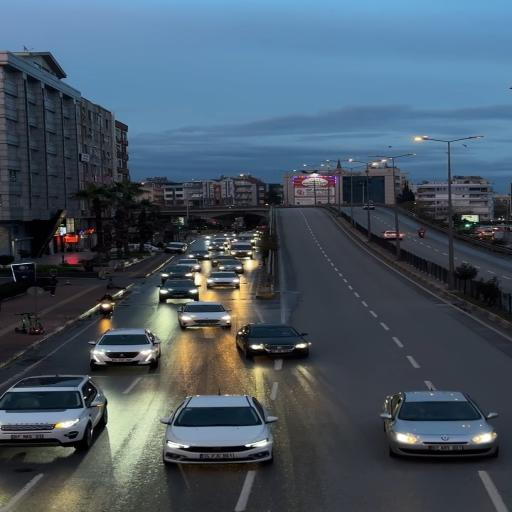car: (156, 394, 326, 490), (357, 391, 512, 485), (82, 312, 202, 411), (226, 325, 377, 377), (5, 371, 98, 455), (194, 260, 266, 305), (146, 285, 239, 306), (160, 251, 210, 285), (179, 306, 249, 330), (199, 223, 269, 240), (379, 230, 428, 243), (178, 246, 279, 252)
lights: (405, 131, 512, 280), (320, 142, 397, 237)
